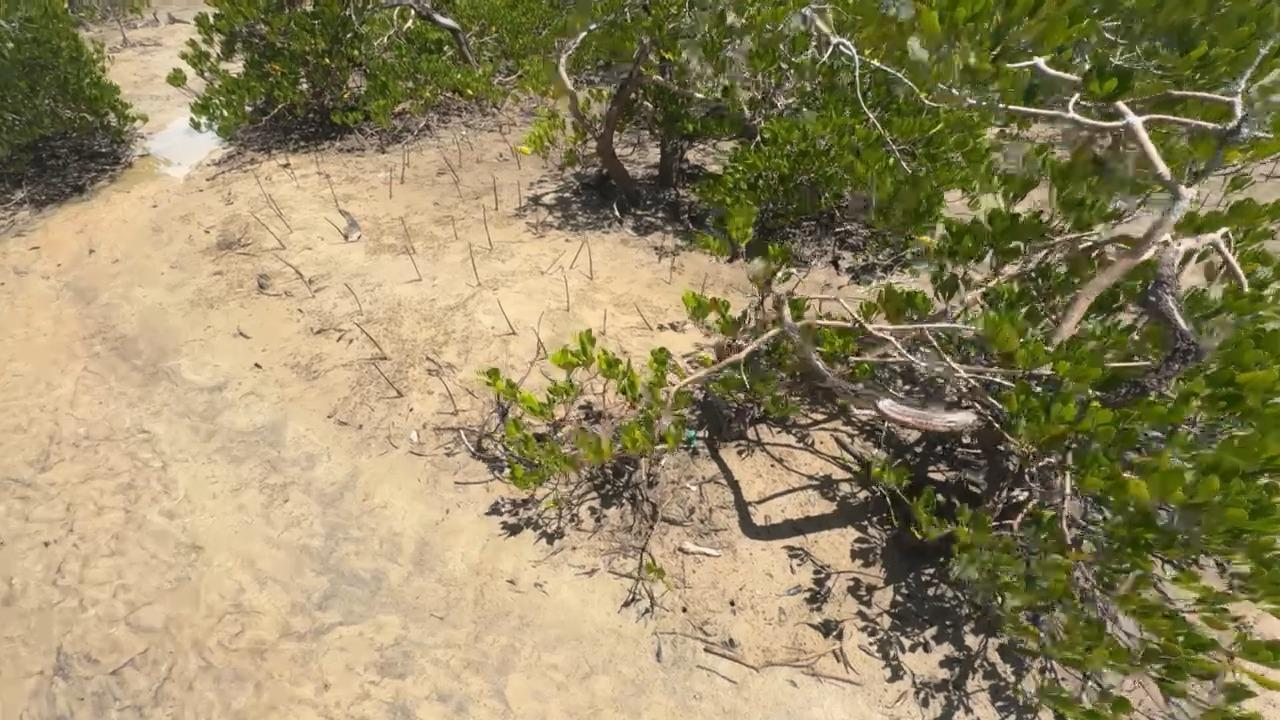Tree: (250, 212, 287, 249), (372, 362, 404, 397), (353, 321, 383, 352), (497, 299, 519, 335), (272, 252, 303, 276), (269, 205, 294, 232), (344, 283, 364, 315), (405, 245, 422, 280), (400, 216, 416, 253), (439, 376, 457, 408), (469, 242, 481, 285), (443, 154, 461, 182), (482, 204, 493, 249), (535, 311, 545, 352), (532, 326, 547, 353), (323, 216, 342, 235), (327, 177, 339, 207), (586, 237, 594, 279), (269, 194, 284, 215), (451, 174, 462, 198), (302, 278, 315, 298), (564, 274, 570, 312), (257, 178, 268, 198), (493, 175, 498, 210), (452, 216, 459, 240), (401, 144, 405, 184), (517, 179, 521, 213), (603, 308, 608, 335), (389, 166, 393, 199), (407, 141, 410, 167)
